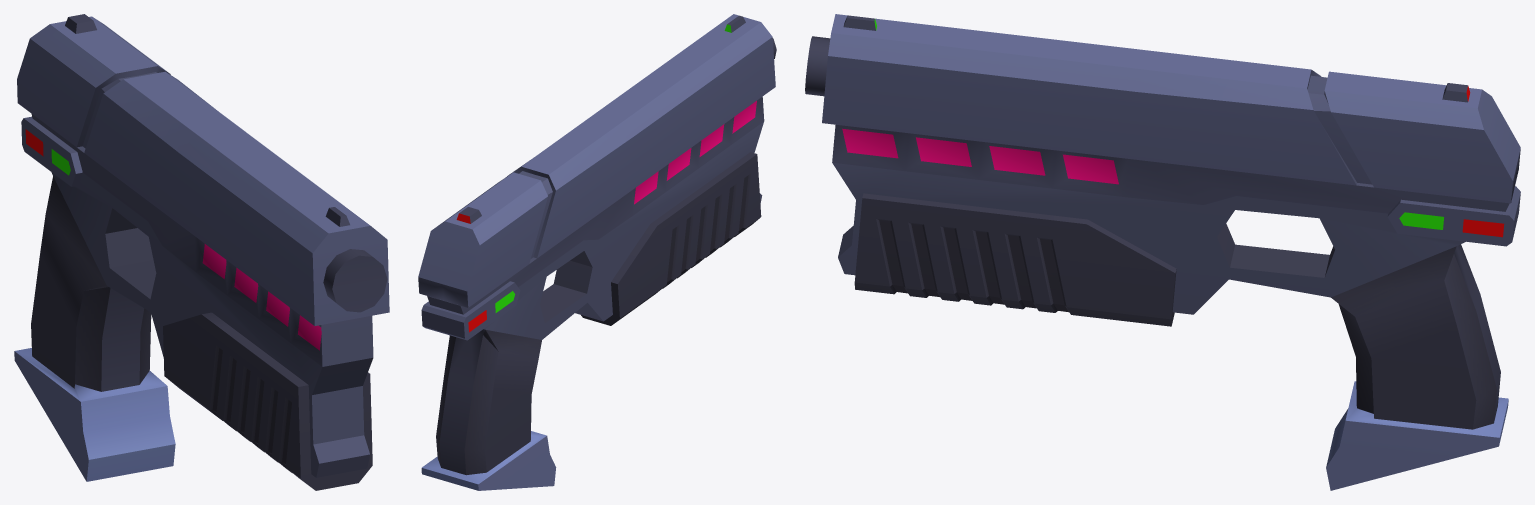
The model's file is w_handgun@idle.FBX.
3 views of the same model, side by side, from view 1: azimuth 30°, elevation 25°; view 2: azimuth 150°, elevation 25°; view 3: azimuth 270°, elevation 25° (orthographic). The views are drawn at different scales.
Parts seen in each view (by area): view 1: Box004; view 2: Box004; view 3: Box004.
Boxes of the visible parts, box(x1,y1,x2,y2) form: Box004: box(14, 14, 389, 490); Box004: box(418, 14, 776, 490); Box004: box(805, 14, 1520, 490).
Size of the model in its own units: 9.69 by 31.23 by 46.43.
